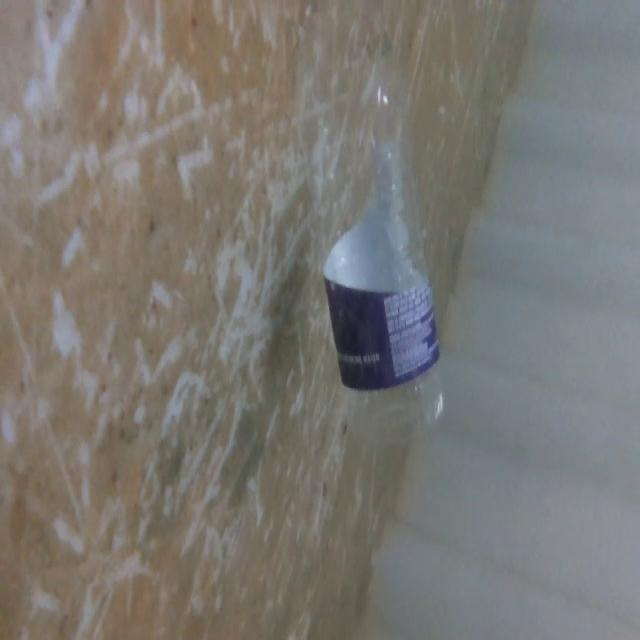plastic bottle: (293, 16, 457, 444)
